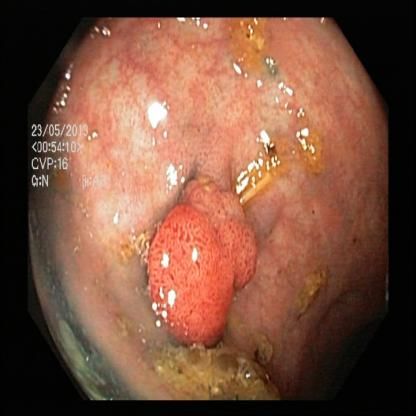Labels: (30, 107, 100, 198)
Polyps: (145, 162, 263, 344)
